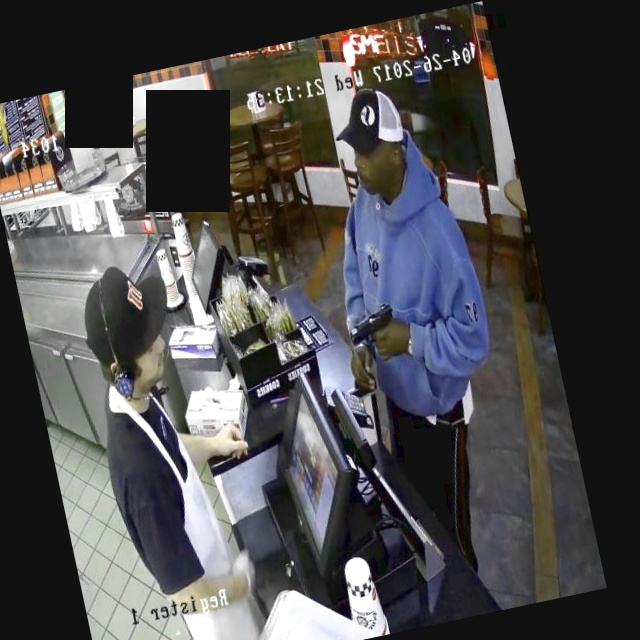gun: (335, 284, 419, 370)
